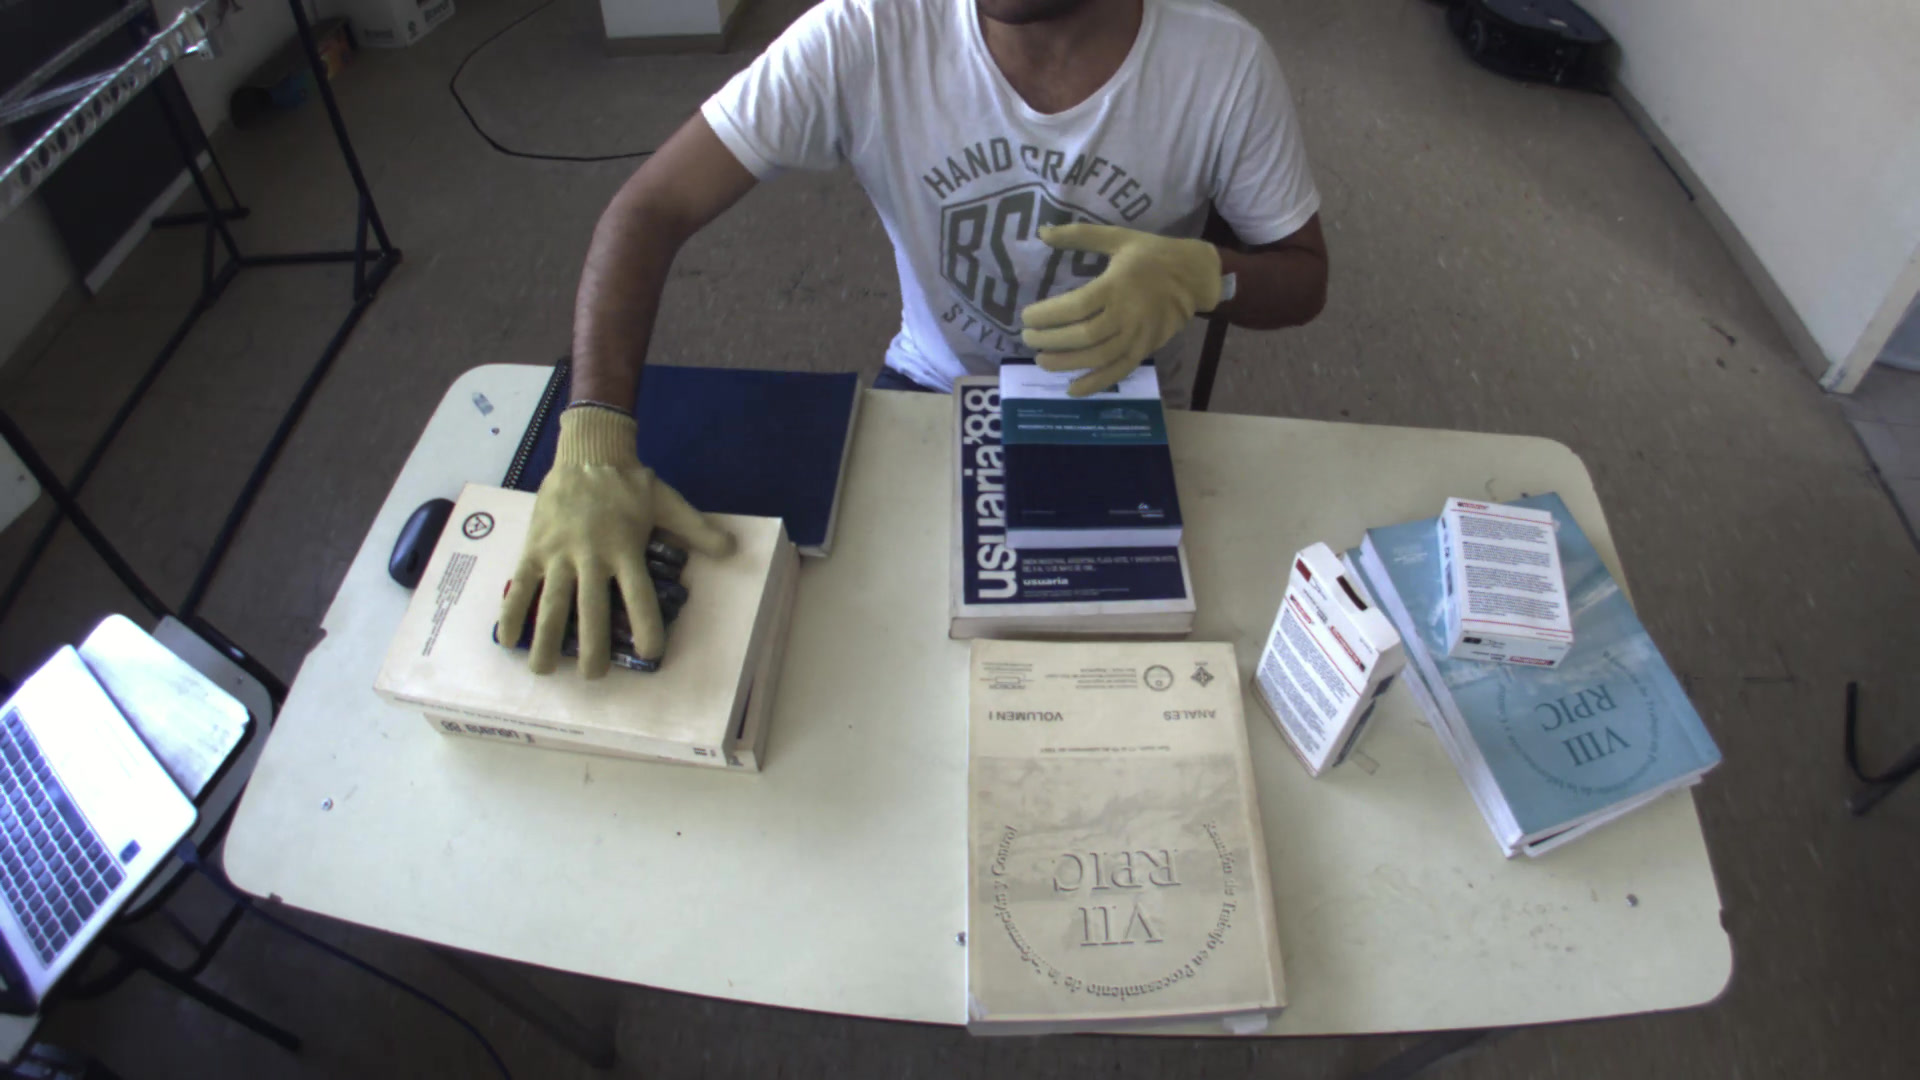hand: (487, 382, 748, 680), (1007, 200, 1234, 401)
